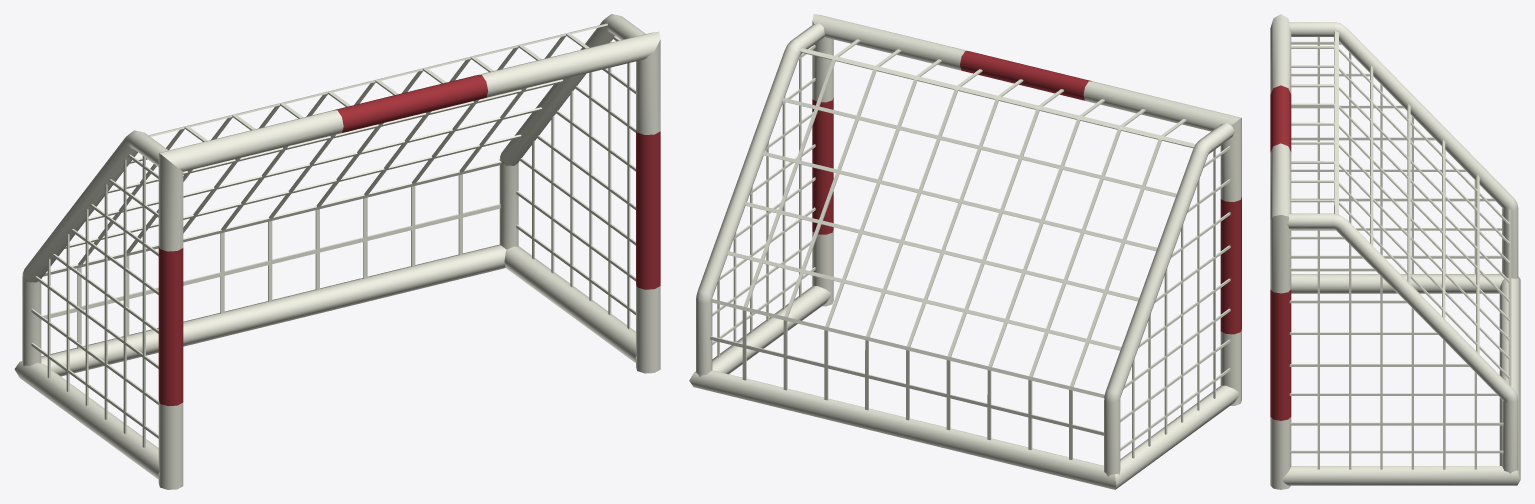
The model's file is goal.glb.
The picture shows the model from 3 angles, left to right: view 1: azimuth 30°, elevation 25°; view 2: azimuth 150°, elevation 25°; view 3: azimuth 270°, elevation 25°; orthographic projection. The views are drawn at different scales.
Parts seen in each view (by area): view 1: Goal_Large; view 2: Goal_Large; view 3: Goal_Large.
Part boxes in pixels (x1,y1,x2,y2): Goal_Large: (14, 14, 660, 489); Goal_Large: (689, 14, 1241, 489); Goal_Large: (1270, 14, 1520, 489).
Bounding box in the file's own units: 7.2 × 4.6 × 3.79.
Materials: 1 (1 with a texture image).
